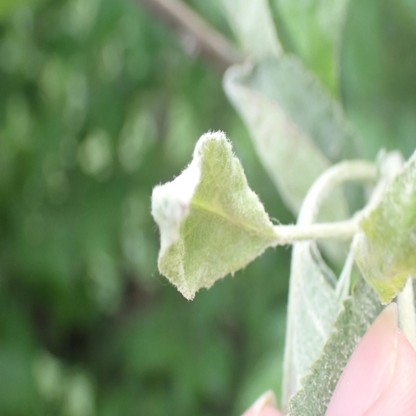powder: (288, 158, 401, 414), (150, 130, 278, 299), (353, 149, 416, 310)
